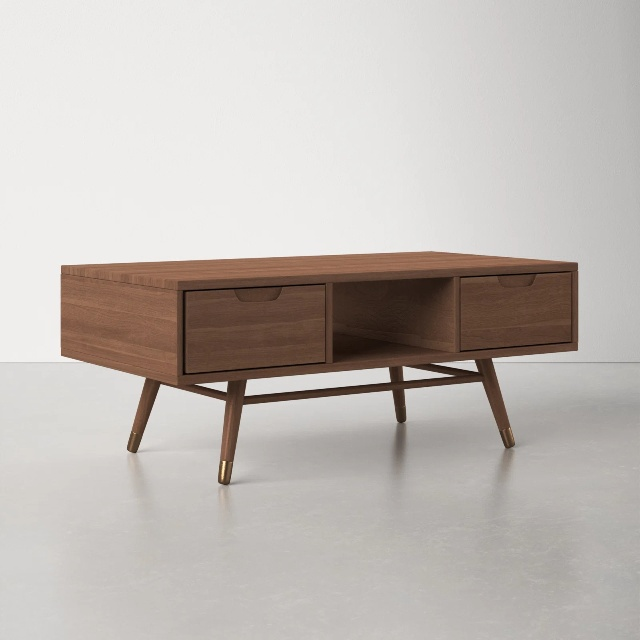obstacle: (61, 252, 578, 484)
